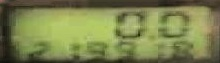-: (144, 32, 155, 38)
0: (111, 8, 144, 38), (157, 8, 191, 37)
1: (64, 38, 82, 61), (151, 38, 169, 61)
2: (22, 37, 51, 62)
8: (171, 38, 195, 62)
9: (113, 39, 138, 62), (84, 38, 109, 61)
